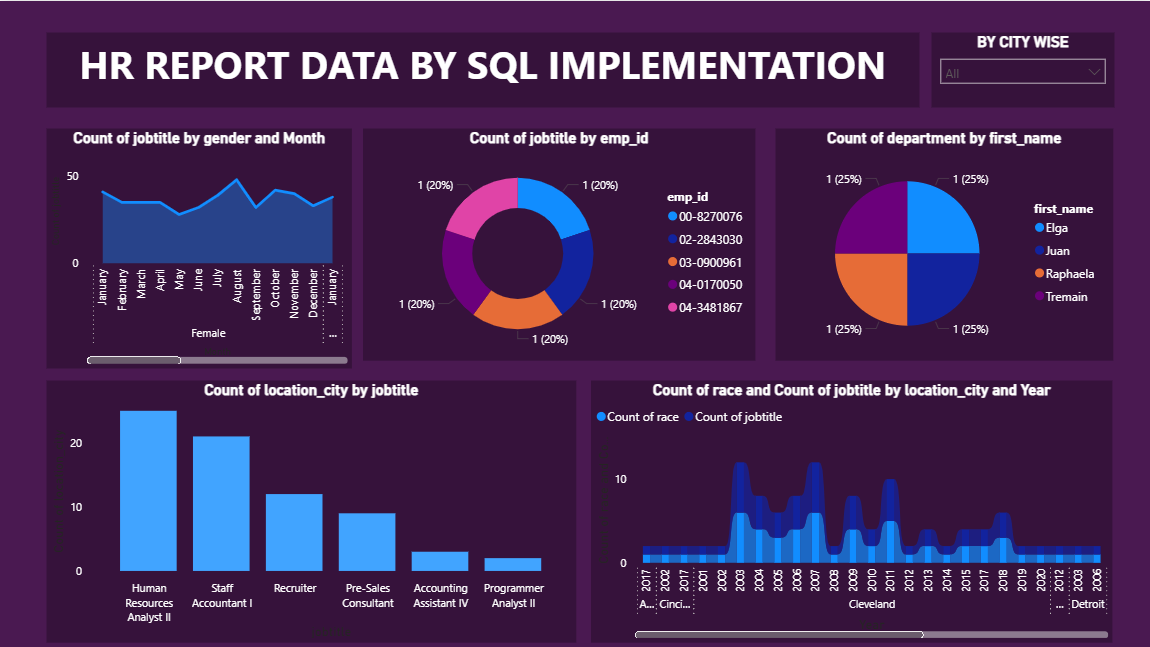

This screenshot's page, from the dashboard's own definition file:
{"tool":"powerbi","page":{"name":"Page 1","canvas":[1280,720],"ordinal":0},"visuals":[{"type":"donutChart","fields":{"Category":["HR.emp_id"],"Y":["CountNonNull(HR.jobtitle)"]},"box":[402.6,141.8,436.2,257.7],"z":0},{"type":"pieChart","fields":{"Category":["HR.first_name"],"Y":["CountNonNull(HR.department)"]},"box":[861.6,141.8,375.2,257.7],"z":1000},{"type":"clusteredColumnChart","fields":{"Category":["HR.jobtitle"],"Y":["CountNonNull(HR.location_city)"]},"box":[51.9,420.9,588.7,291.3],"z":2000},{"type":"ribbonChart","fields":{"Category":["HR.location_city","HR.hire_date.Variation.Date Hierarchy.Year"],"Y":["CountNonNull(HR.race)","CountNonNull(HR.jobtitle)"]},"box":[657.3,420.9,579.5,291.3],"z":3000},{"type":"slicer","title":"SELECT CITY","fields":{"Values":["HR.location_city"]},"box":[1034.2,34.4,203.4,83.1],"z":4000},{"type":"areaChart","fields":{"Category":["HR.gender","HR.hire_date.Variation.Date Hierarchy.Month"],"Y":["CountNonNull(HR.jobtitle)"]},"box":[51.6,141.8,339.5,266.4],"z":5000},{"type":"textbox","box":[51.6,34.4,969.7,83.1],"z":6000}]}

Visuals, with their boxes in screenshot pixels (x1, y1, x2, y2), scaled from the page's 1280x720 canvas onto the 1150x647 screenshot:
donutChart - HR.emp_id x CountNonNull(HR.jobtitle): <box>362,127,754,359</box>
pieChart - HR.first_name x CountNonNull(HR.department): <box>774,127,1111,359</box>
clusteredColumnChart - HR.jobtitle x CountNonNull(HR.location_city): <box>47,378,576,640</box>
ribbonChart - HR.location_city x HR.hire_date.Variation.Date Hierarchy.Year: <box>591,378,1111,640</box>
"SELECT CITY" slicer: <box>929,31,1112,106</box>
areaChart - HR.gender x HR.hire_date.Variation.Date Hierarchy.Month: <box>46,127,351,367</box>
textbox: <box>46,31,918,106</box>
